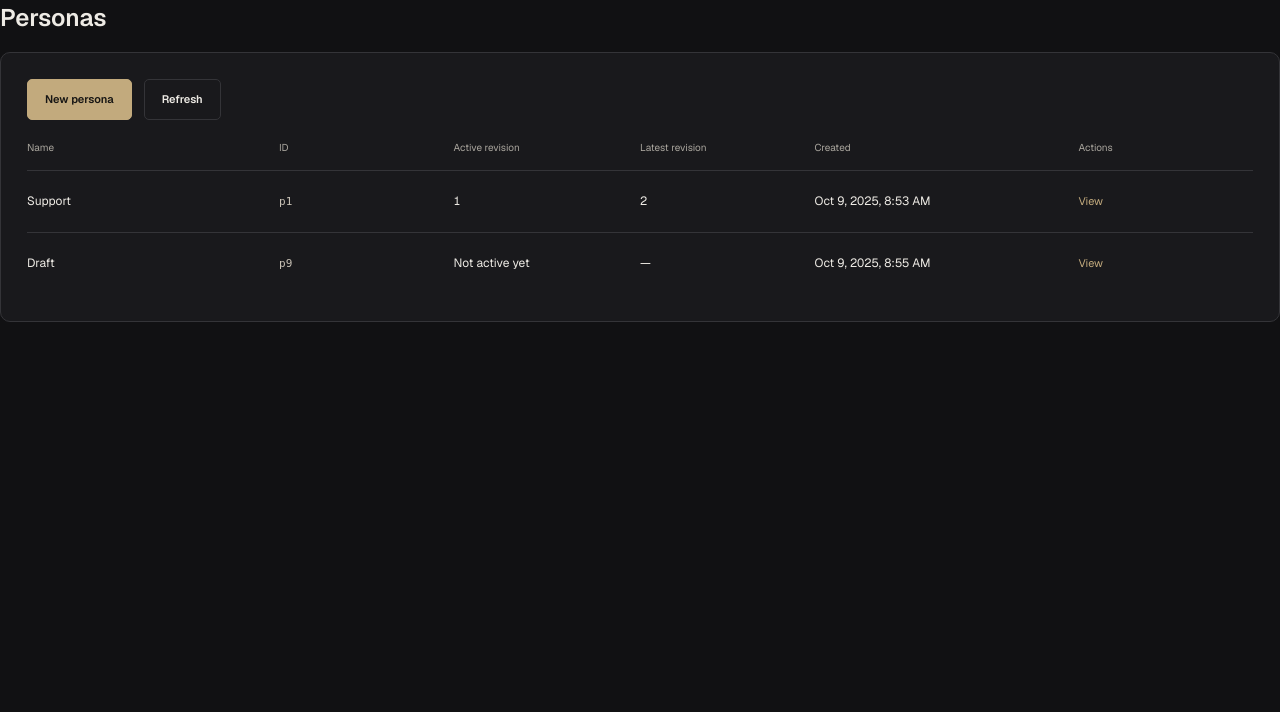
admin personas section › lists personas and creates one
Expected: the text "Support" is shown, x1=27 y1=170 x2=279 y2=233
Expected: the text "Not active yet" is shown, x1=454 y1=233 x2=640 y2=295
Click the button "New persona" at (79, 99), box x1=27 y1=79 x2=132 y2=120
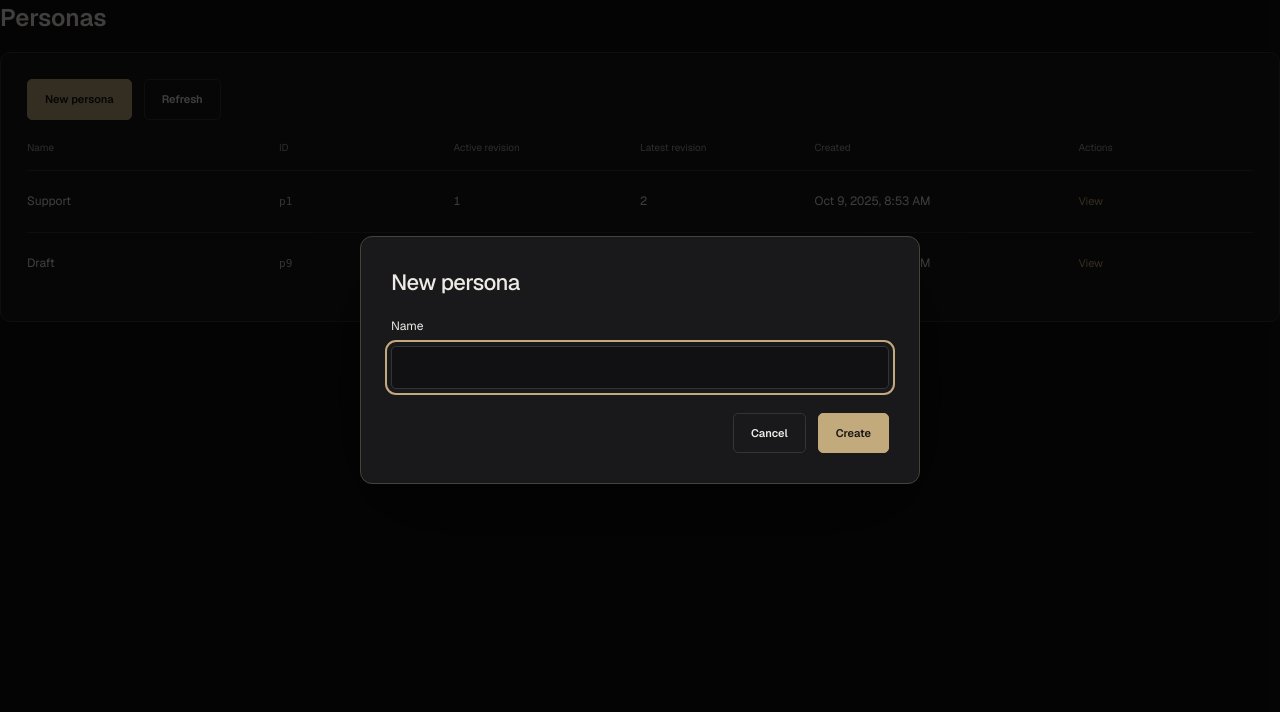
Type "Sales" into the field labelled "Name" at (640, 367), box x1=391 y1=346 x2=889 y2=389
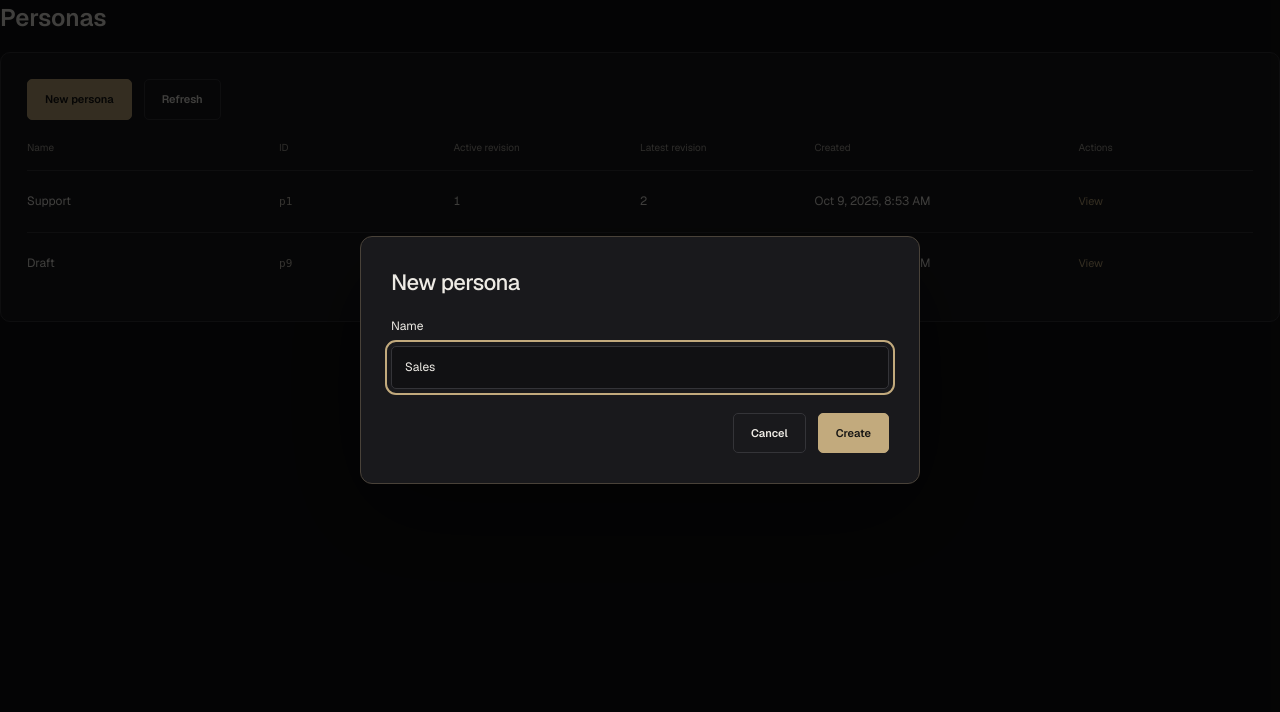
Click the button "Create" at (853, 433), box x1=818 y1=413 x2=889 y2=453
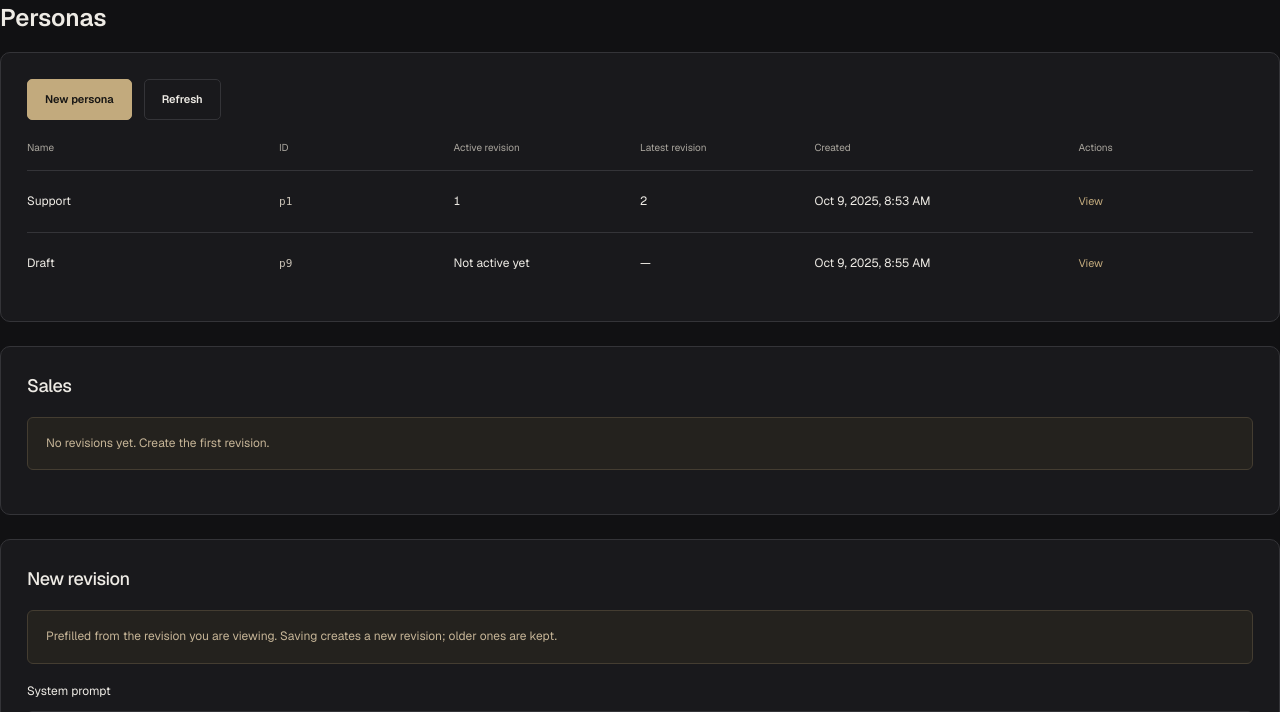
Expected: the text "No revisions yet. Create the first revision." is shown, x1=27 y1=417 x2=1253 y2=470
